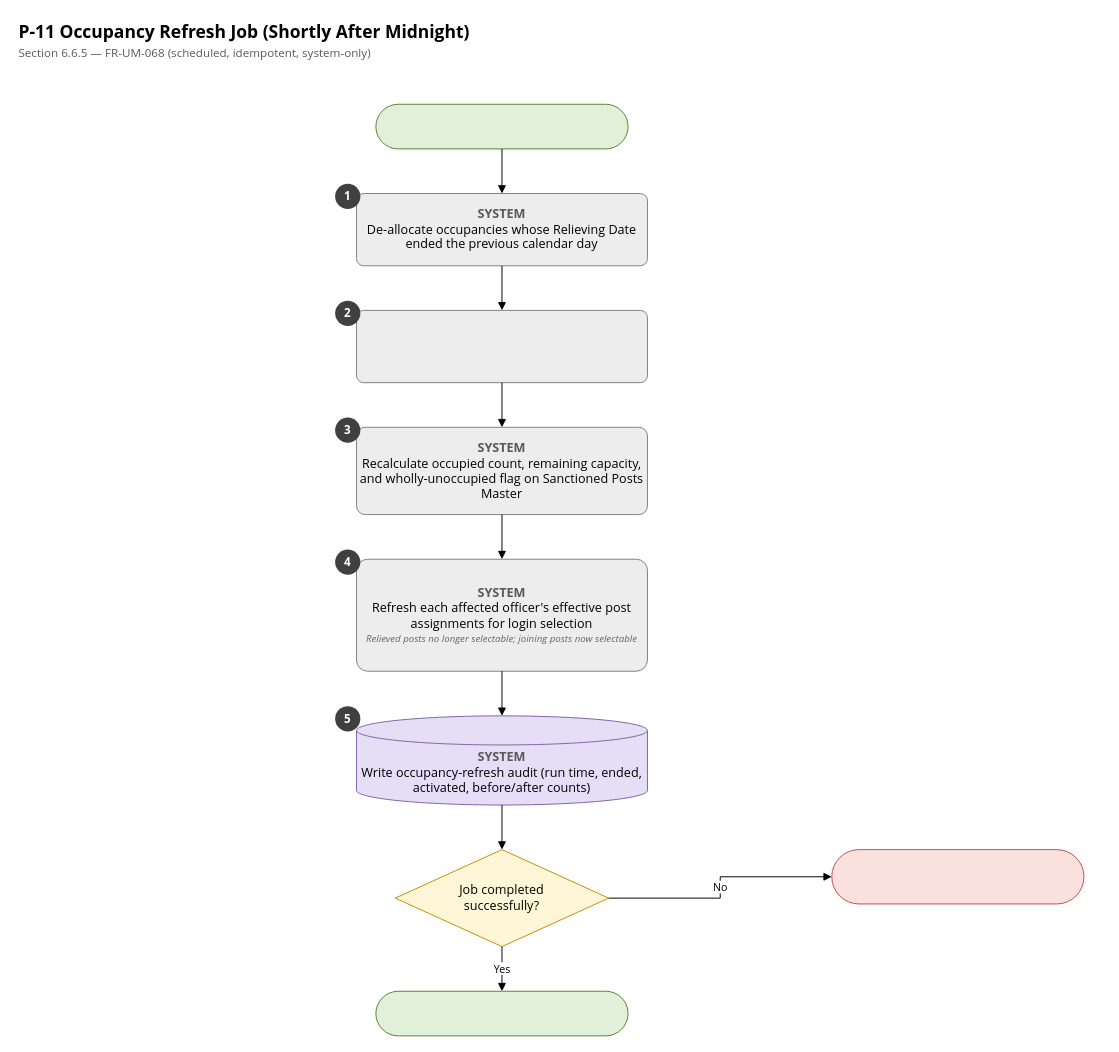
This 1119x1052 diagram has some shape labels left out. Here are the shapes that lost their labels. From the top down, the box of each, then its label:
(375, 103, 628, 149): TRIGGER — shortly after 12:00 AM IST
(356, 309, 647, 383): SYSTEM De-allocate occupancies whose optional End Date has been reached
(831, 849, 1084, 904): RAISE OPERATIONAL ALERT
(375, 990, 628, 1036): REFRESH COMPLETE
